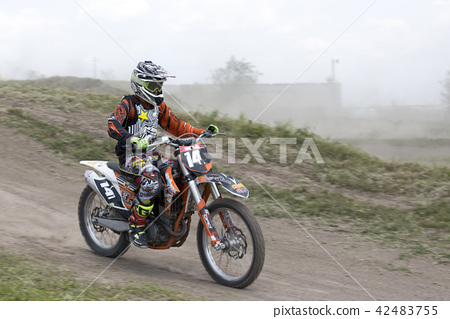helmet: (132, 57, 170, 104)
